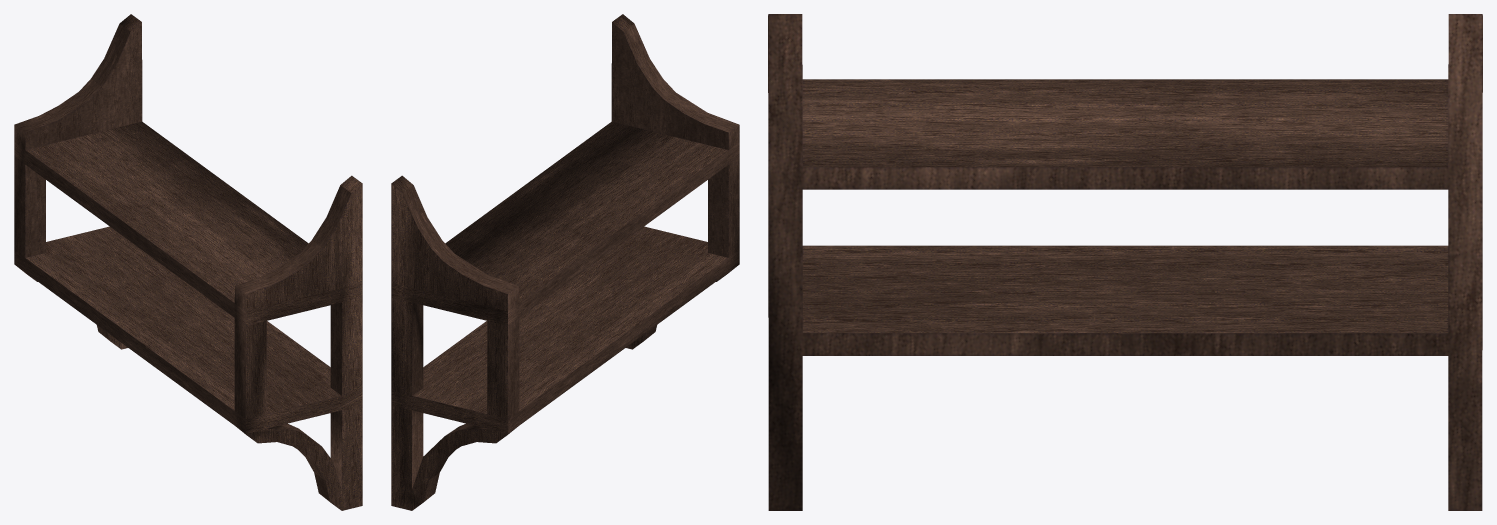
Rendered from shelf.fbx.
3 renders of one model, left to right at view 1: azimuth 30°, elevation 25°; view 2: azimuth 150°, elevation 25°; view 3: azimuth 270°, elevation 25°, orthographic. The views are drawn at different scales.
Parts seen in each view (by area): view 1: shelf; view 2: shelf; view 3: shelf.
Boxes of the visible parts, <box> form: shelf: <box>14,14,362,510</box>; shelf: <box>391,14,739,510</box>; shelf: <box>768,14,1482,510</box>.
Size of the model in its own units: 112 by 295 by 385.
Materials: 1 (1 with a texture image).
